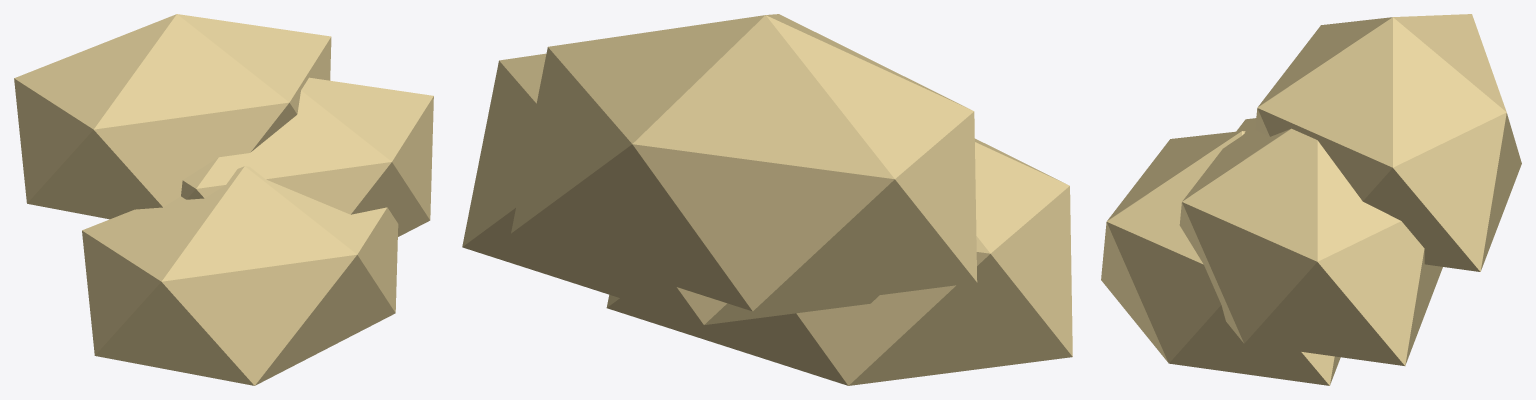
Rendered from item_059_barley_m.glb.
3 renders of one model, left to right at view 1: azimuth 30°, elevation 25°; view 2: azimuth 150°, elevation 25°; view 3: azimuth 270°, elevation 25°, orthographic. The views are drawn at different scales.
Visible parts, largest first — view 1: item_059_barley_m; view 2: item_059_barley_m; view 3: item_059_barley_m.
Part boxes in pixels (x1,y1,x2,y2): item_059_barley_m: [14, 14, 433, 385]; item_059_barley_m: [462, 14, 1072, 385]; item_059_barley_m: [1101, 14, 1521, 385].
Size of the model in its own units: 0.381 by 0.2948 by 0.3351.
